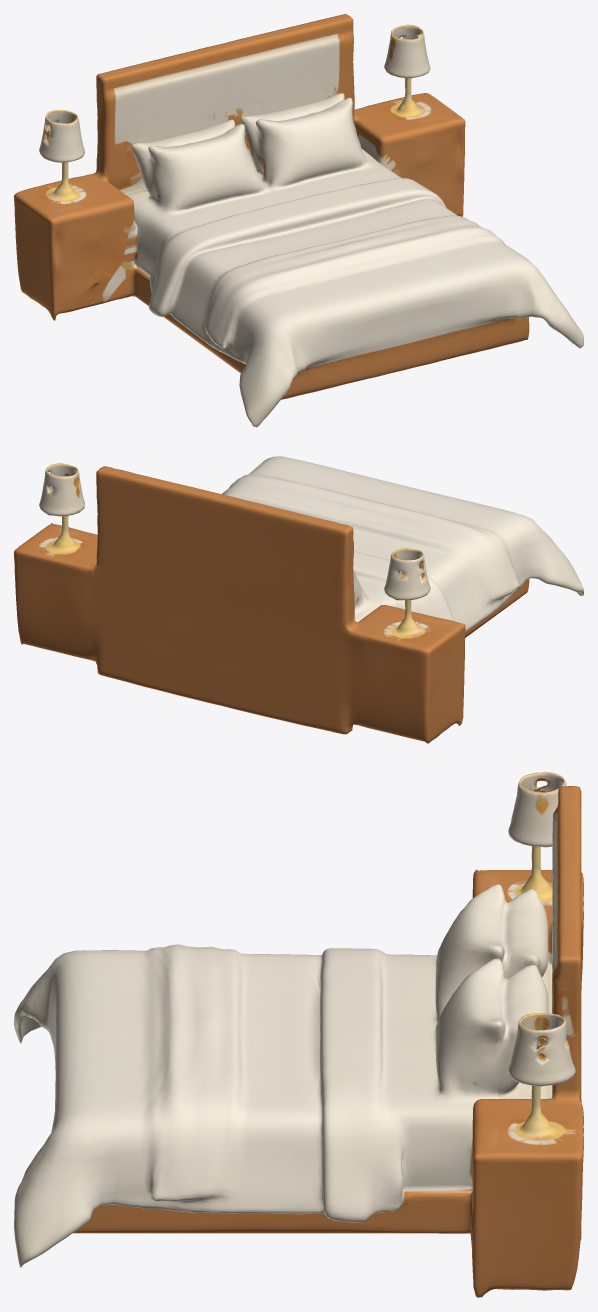
The picture shows the model from 3 angles, top to bottom: view 1: azimuth 30°, elevation 25°; view 2: azimuth 150°, elevation 25°; view 3: azimuth 270°, elevation 25°; orthographic projection. The views are drawn at different scales.
Visible parts, largest first — view 1: model; view 2: model; view 3: model.
Part boxes in pixels (x1=…): model: x1=14, y1=14, x2=583, y2=427; model: x1=14, y1=456, x2=583, y2=743; model: x1=14, y1=772, x2=583, y2=1297.
Bounding box in the file's own units: 1.9 × 0.9038 × 1.59.
1 material, 1 textured.
